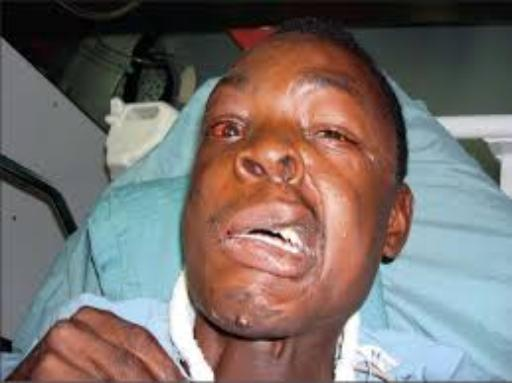left_eye: (311, 130, 361, 146)
left_lip_corner: (306, 240, 327, 263)
right_eye: (211, 123, 246, 143)
right_lip_corner: (215, 222, 232, 252)
